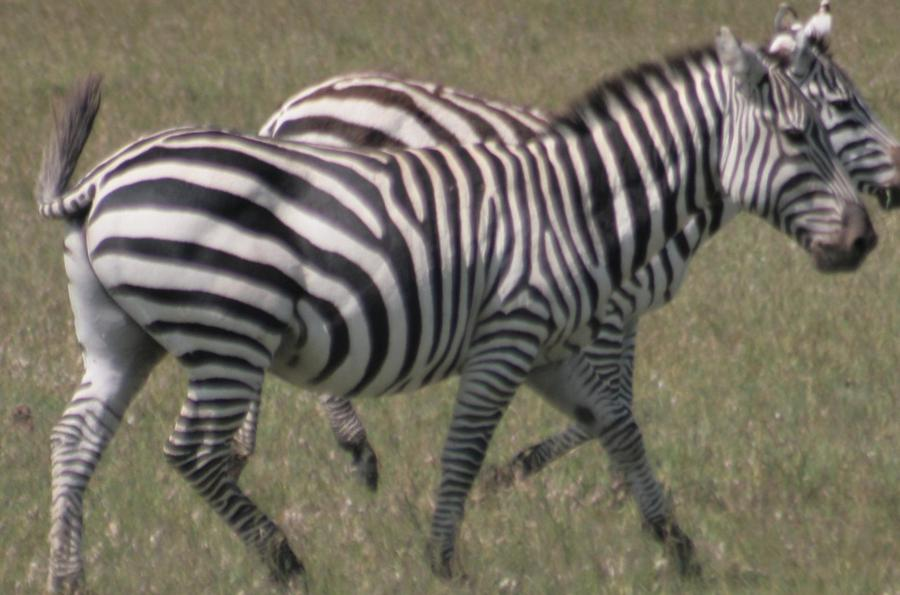zebra_plains: (141, 96, 562, 424)
